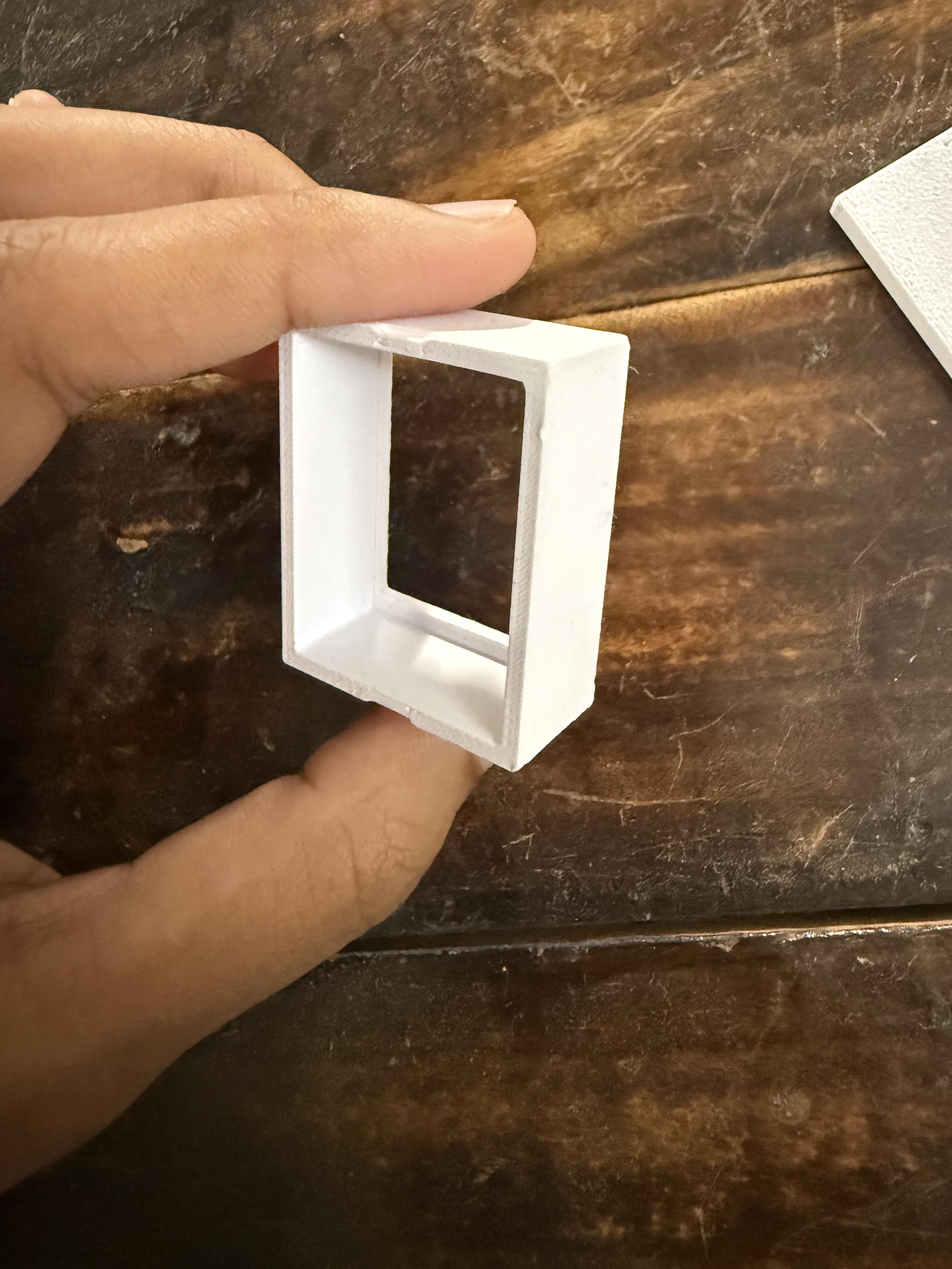enclosure: (278, 309, 630, 773), (814, 83, 952, 393)
